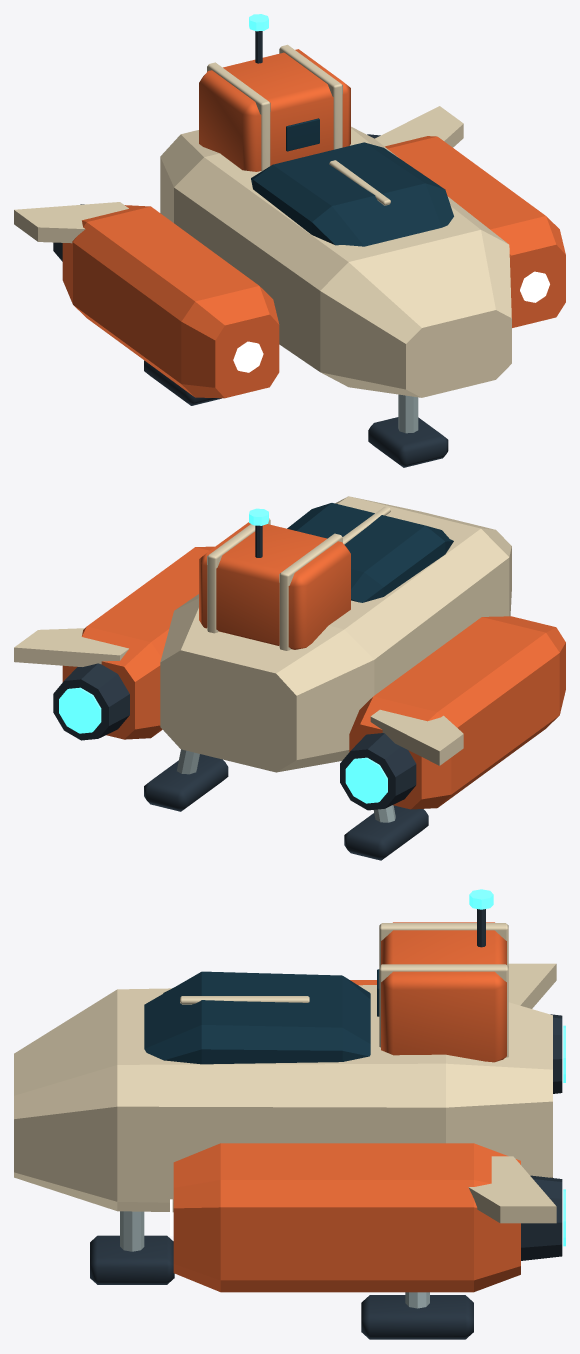
3 renders of one model, top to bottom at view 1: azimuth 30°, elevation 25°; view 2: azimuth 150°, elevation 25°; view 3: azimuth 270°, elevation 25°, orthographic. The views are drawn at different scales.
Visible parts, largest first — view 1: 01 • pressure hull, Outrigger orange pod, 02 • forward flight canopy, Express freight module, Outrigger orange pod.001, Swept stabilizer fin, Front landing foot, Swept stabilizer fin.001, Cargo locking band, Cargo locking band.001, Freight identification plate, Front landing strut (+3 smaller); view 2: 01 • pressure hull, Outrigger orange pod, Express freight module, Outrigger orange pod.001, 02 • forward flight canopy, Swept stabilizer fin.001, Engine nozzle surround.001, Engine nozzle surround, Swept stabilizer fin, Landing foot.001, Landing foot, Engine ion aperture.001 (+4 smaller); view 3: 01 • pressure hull, Outrigger orange pod.001, 02 • forward flight canopy, Express freight module, Landing foot.001, Swept stabilizer fin.001, Front landing foot, Engine nozzle surround.001, Swept stabilizer fin, Cargo locking band.001, Cargo locking band, Front landing strut (+2 smaller).
Boxes of the visible parts, x1,y1,x2,y2 form: 01 • pressure hull: (160, 126, 511, 397); Outrigger orange pod: (62, 205, 279, 398); 02 • forward flight canopy: (251, 142, 453, 246); Express freight module: (199, 49, 350, 171); Outrigger orange pod.001: (385, 136, 565, 327); Swept stabilizer fin: (14, 202, 128, 243); Front landing foot: (368, 417, 448, 467); Swept stabilizer fin.001: (375, 106, 463, 147); Cargo locking band: (207, 62, 270, 170); Cargo locking band.001: (279, 44, 342, 149); Freight identification plate: (286, 118, 319, 151); Front landing strut: (398, 394, 418, 433); 01 • pressure hull: (160, 496, 511, 772); Outrigger orange pod: (349, 616, 565, 809); Express freight module: (199, 522, 350, 649); Outrigger orange pod.001: (62, 546, 214, 739); 02 • forward flight canopy: (287, 503, 453, 602); Swept stabilizer fin.001: (14, 628, 128, 666); Engine nozzle surround.001: (53, 663, 129, 740); Engine nozzle surround: (340, 733, 416, 810); Swept stabilizer fin: (370, 709, 463, 765); Landing foot.001: (144, 754, 228, 811); Landing foot: (344, 805, 428, 860); Engine ion aperture.001: (59, 687, 101, 733); 01 • pressure hull: (14, 985, 552, 1212); Outrigger orange pod.001: (173, 1143, 520, 1292); 02 • forward flight canopy: (144, 971, 370, 1064); Express freight module: (381, 922, 506, 1062); Landing foot.001: (361, 1295, 473, 1339); Swept stabilizer fin.001: (468, 1156, 556, 1223); Front landing foot: (90, 1235, 174, 1284); Engine nozzle surround.001: (521, 1175, 562, 1260); Swept stabilizer fin: (508, 963, 556, 1008); Cargo locking band.001: (379, 964, 508, 1057); Cargo locking band: (379, 923, 508, 966); Front landing strut: (120, 1211, 144, 1251).
Size of the model in its own units: 3.06 by 2.23 by 2.94.
